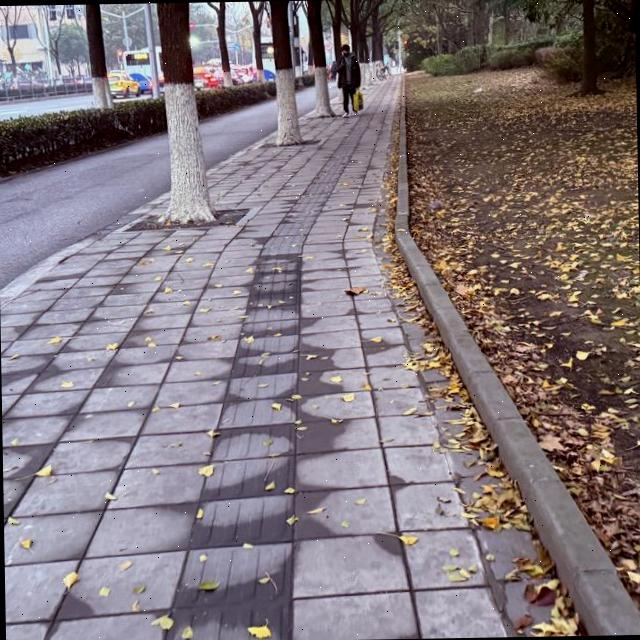curb: (395, 77, 640, 634), (0, 193, 168, 305), (207, 131, 275, 175)
